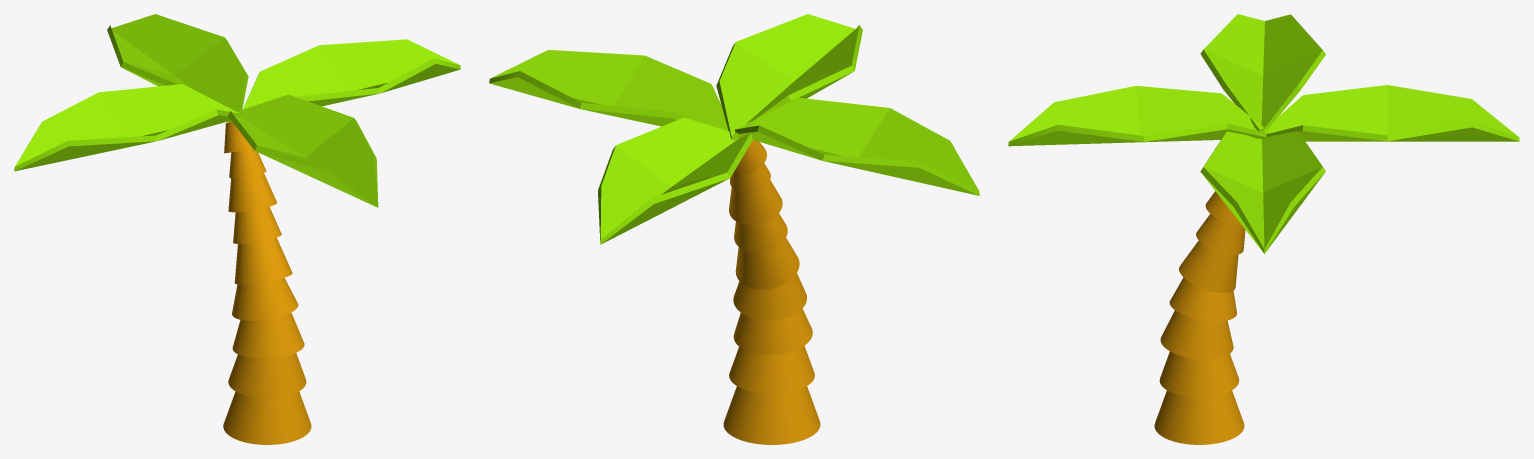
The model's file is Palm Tree.fbx.
The picture shows the model from 3 angles, left to right: view 1: azimuth 30°, elevation 25°; view 2: azimuth 150°, elevation 25°; view 3: azimuth 270°, elevation 25°; orthographic projection. The views are drawn at different scales.
Visible parts, largest first — view 1: pPlane4, pPlane2, pPlane3, pPlane1, pCylinder1, pCylinder2, pCylinder3, pCylinder4, pCylinder5, pCylinder7, pCylinder6, pCylinder8 (+1 smaller); view 2: pPlane4, pPlane3, pPlane1, pPlane2, pCylinder1, pCylinder2, pCylinder3, pCylinder5, pCylinder4, pCylinder7, pCylinder6, pCylinder8 (+1 smaller); view 3: pPlane2, pPlane1, pPlane3, pPlane4, pCylinder1, pCylinder2, pCylinder3, pCylinder5, pCylinder4, pCylinder6, pCylinder7.
Boxes of the visible parts, x1,y1,x2,y2 form: pPlane4: (14,84,239,171); pPlane2: (228,94,378,207); pPlane3: (243,39,460,109); pPlane1: (107,14,248,122); pCylinder1: (223,391,311,444); pCylinder2: (228,353,306,398); pCylinder3: (232,312,304,358); pCylinder4: (232,278,298,320); pCylinder5: (234,237,292,284); pCylinder7: (228,173,276,212); pCylinder6: (233,207,281,243); pCylinder8: (229,148,266,178); pPlane4: (735,97,979,195); pPlane3: (489,50,728,131); pPlane1: (598,117,753,244); pPlane2: (716,14,862,140); pCylinder1: (723,386,820,444); pCylinder2: (729,346,814,393); pCylinder3: (733,309,812,354); pCylinder5: (735,238,799,289); pCylinder4: (733,273,806,320); pCylinder7: (729,180,782,224); pCylinder6: (734,213,787,252); pCylinder8: (730,163,770,192); pPlane2: (1008,86,1270,146); pPlane1: (1262,85,1519,141); pPlane3: (1200,131,1325,253); pPlane4: (1200,14,1325,131); pCylinder1: (1154,390,1244,444); pCylinder2: (1159,351,1239,397); pCylinder3: (1160,310,1233,359); pCylinder5: (1179,240,1238,293); pCylinder4: (1169,277,1236,321); pCylinder6: (1196,214,1245,254); pCylinder7: (1205,191,1242,225).
Bounding box in the file's own units: 18.9 × 12.79 × 18.39.
